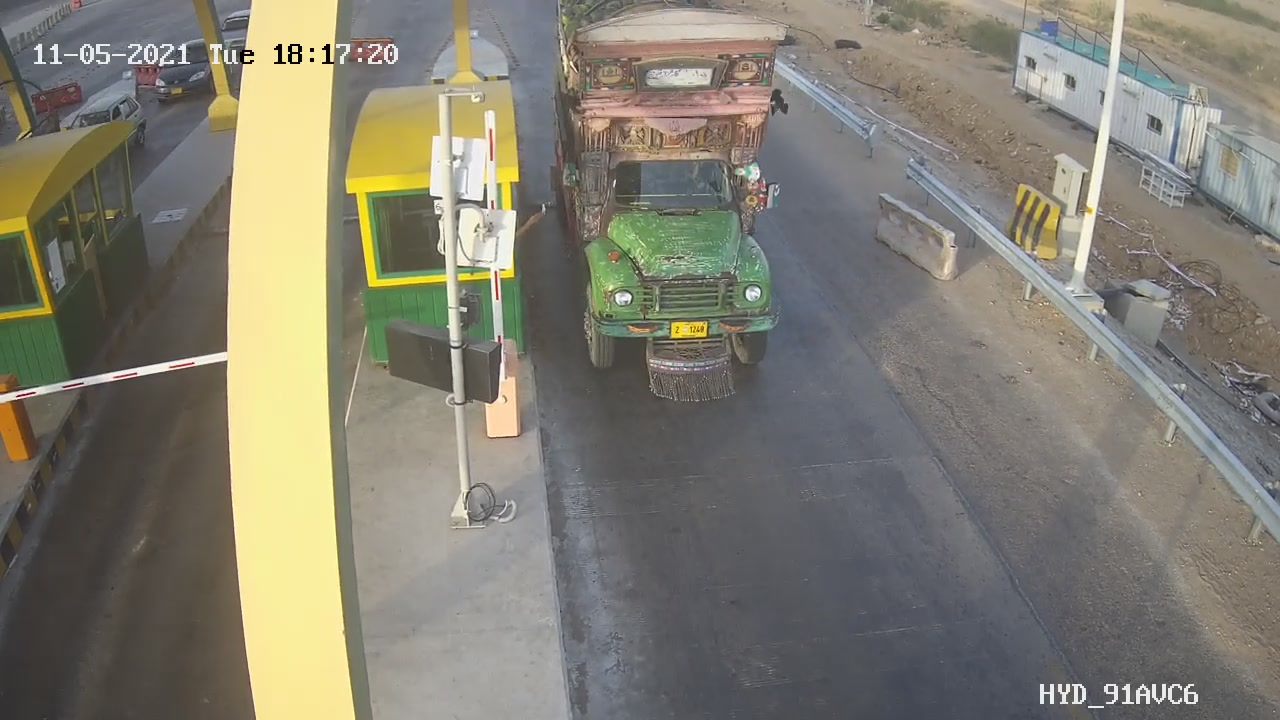F5: (546, 16, 812, 408)
